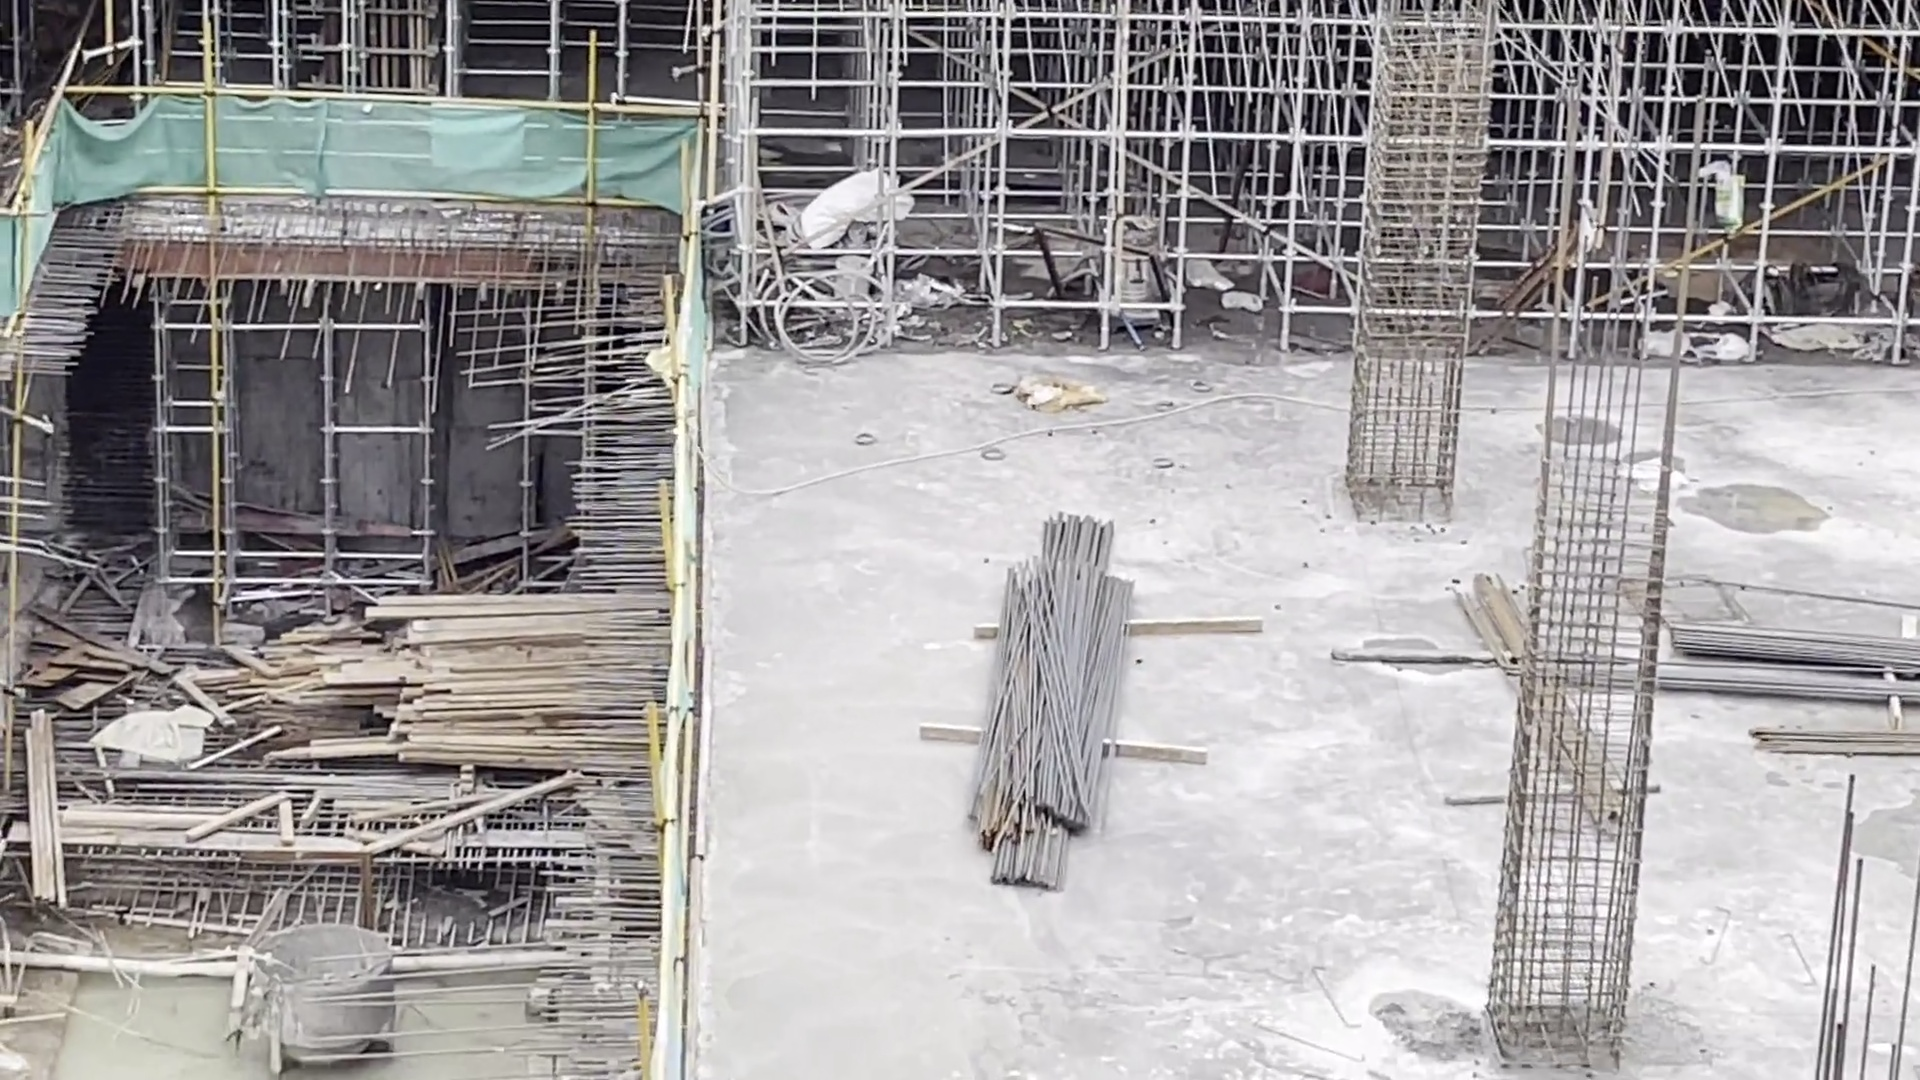rebar: (977, 491, 1137, 895)
wood: (363, 585, 670, 777)
